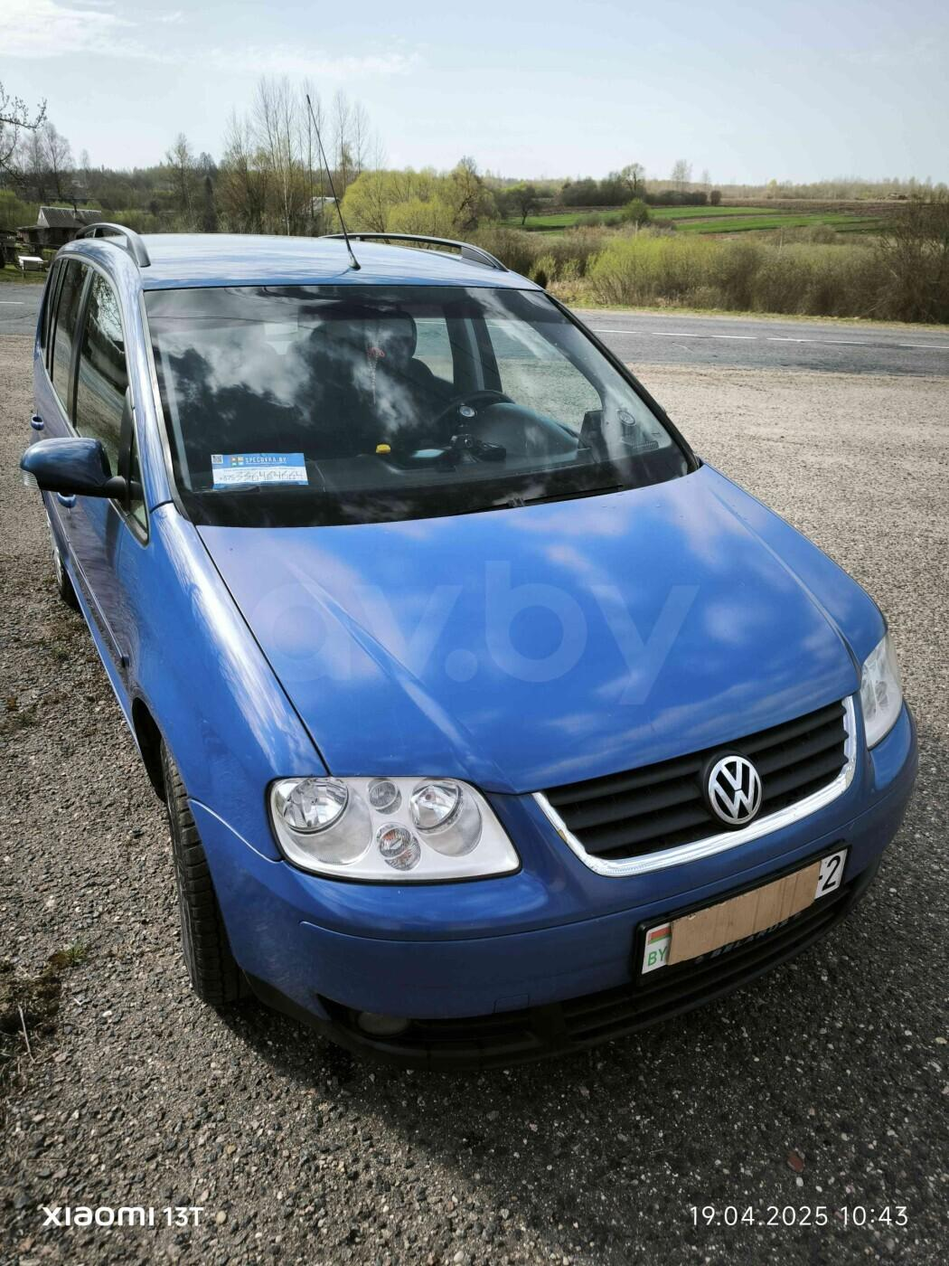Touran_2003-2006: (27, 224, 916, 1056)
